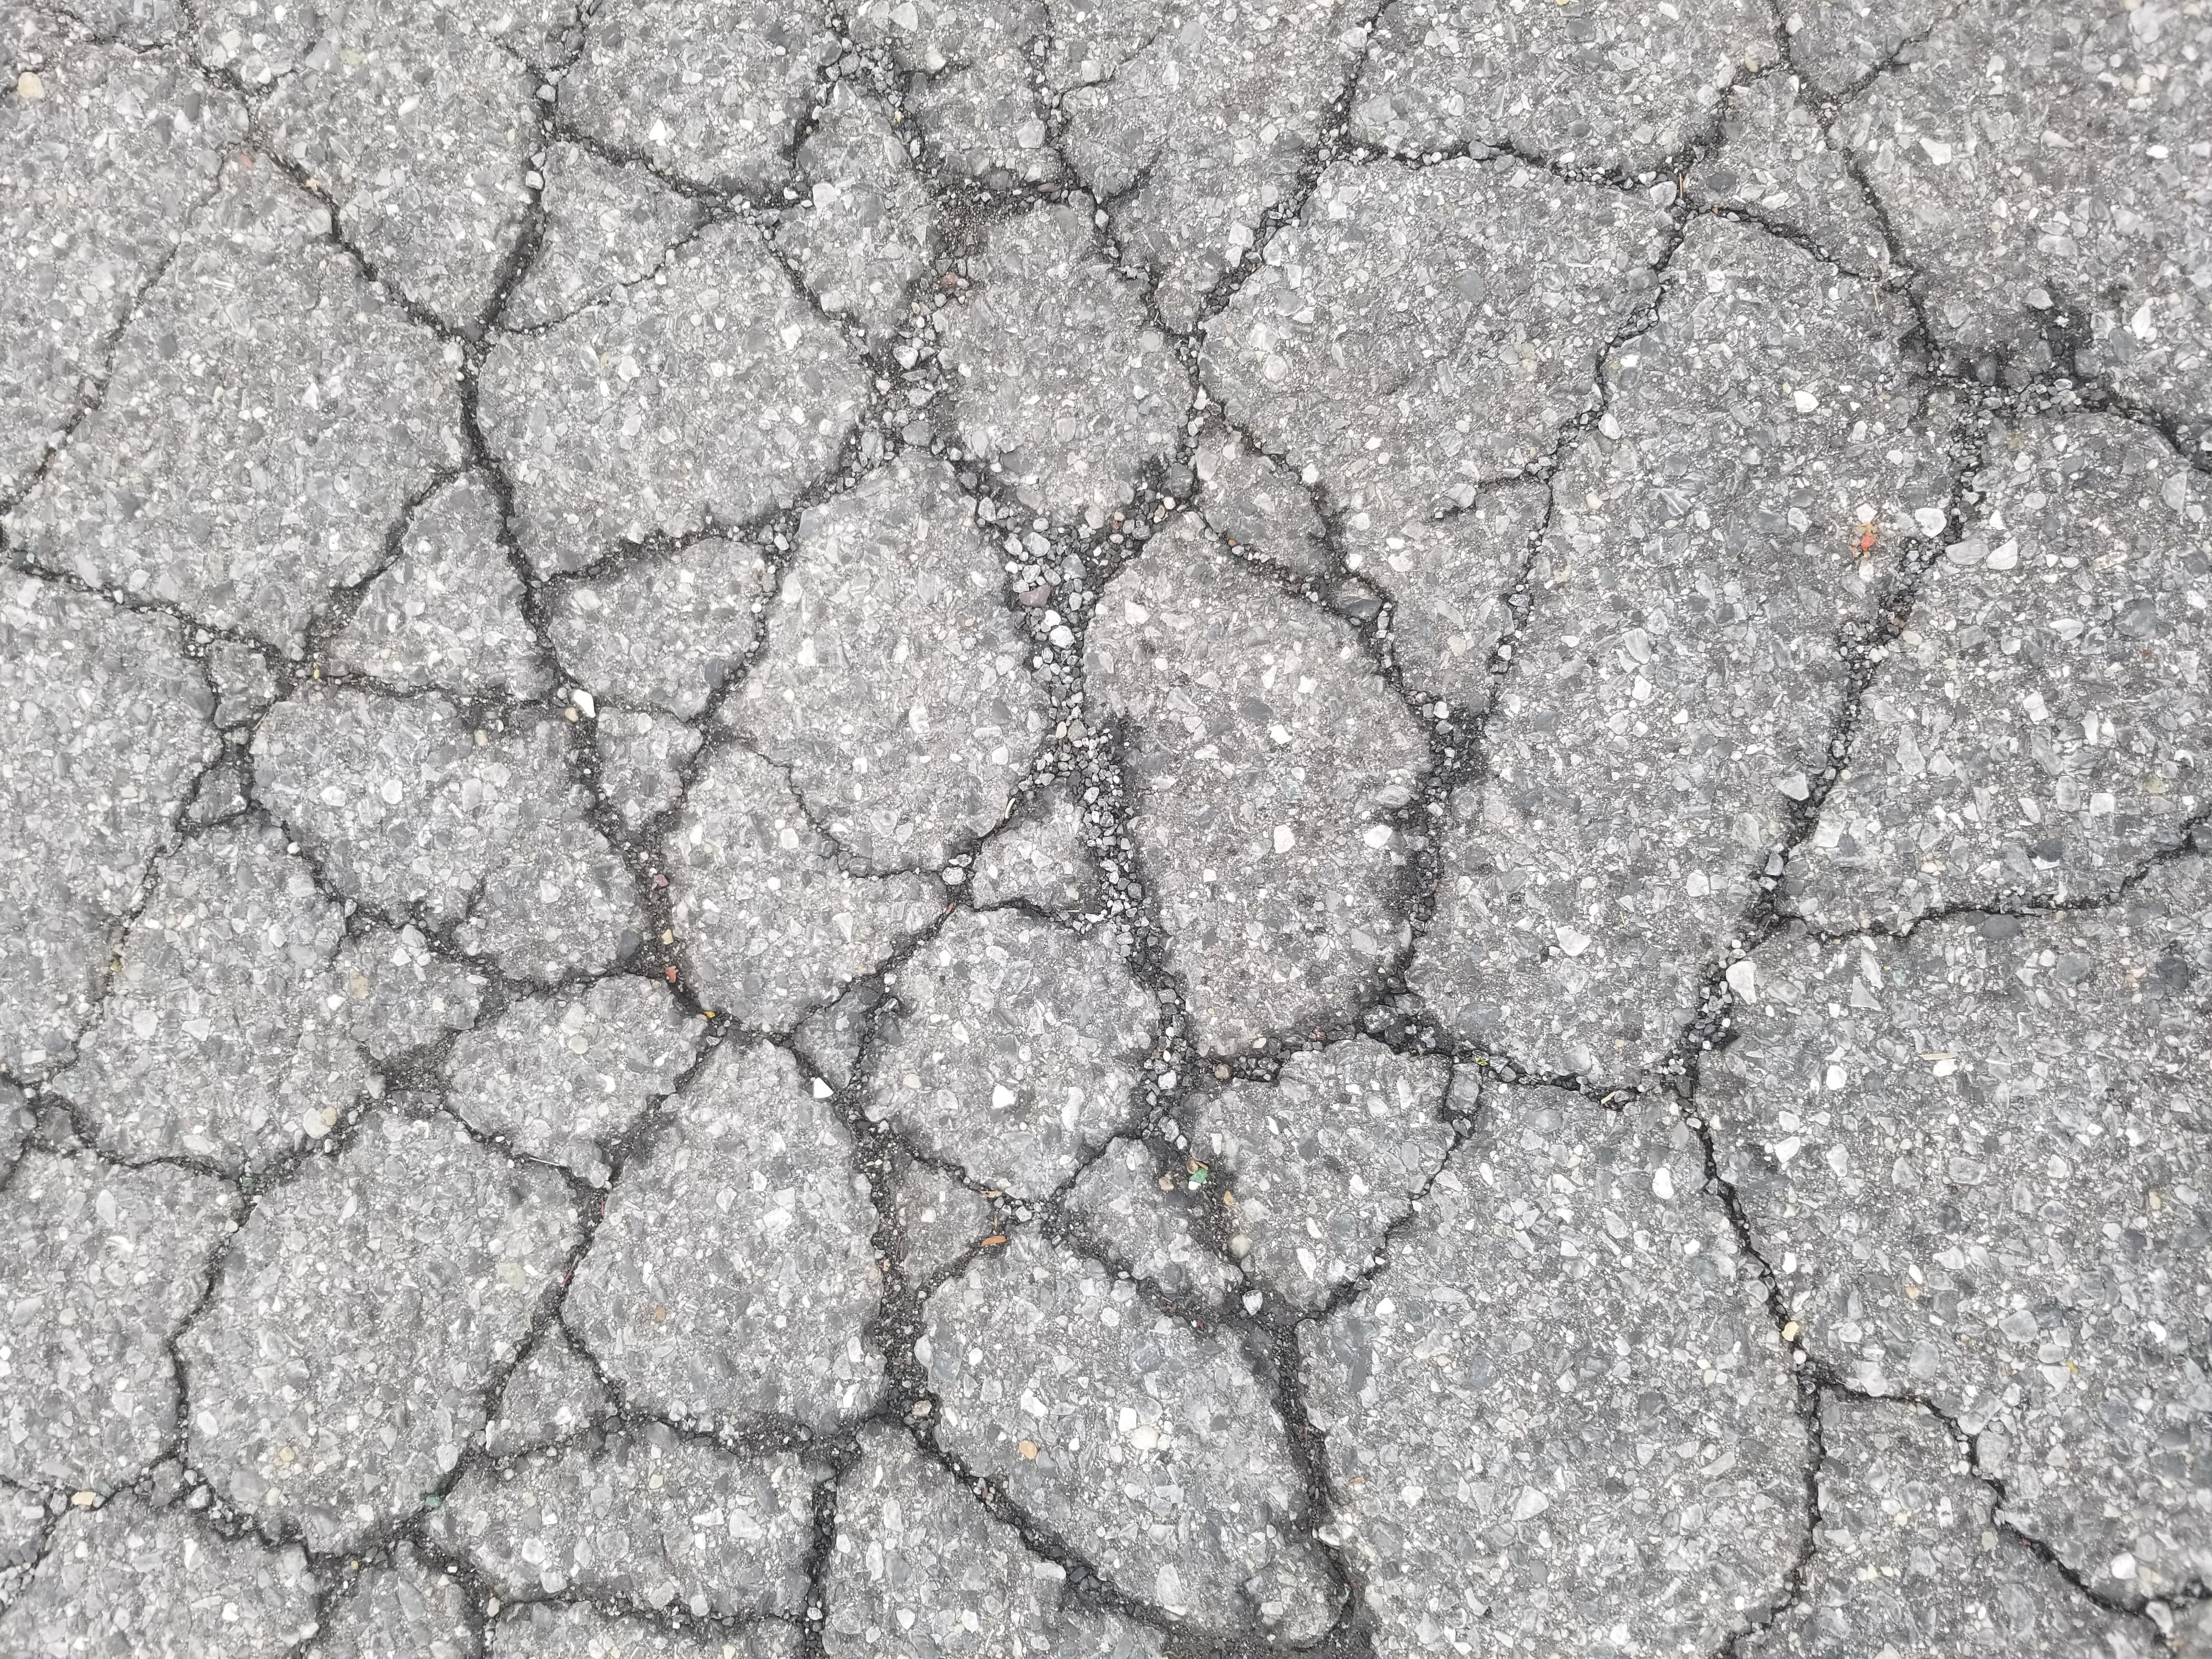alligator-crack: (26, 7, 2212, 1659)
